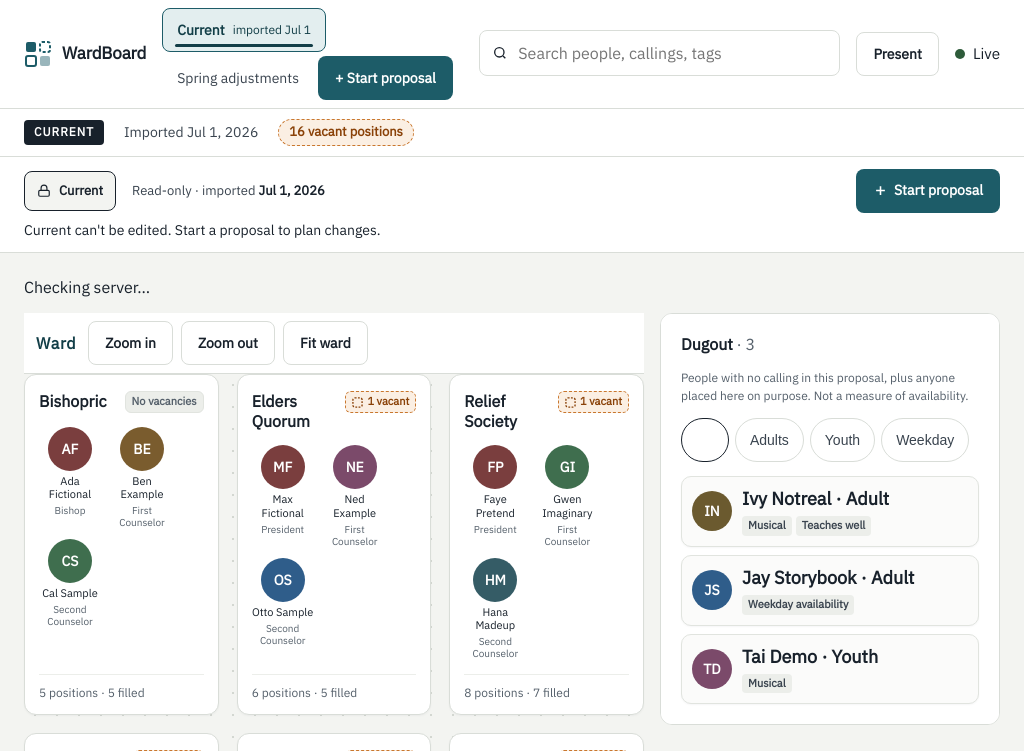
Scenario: T-090 accepted view in app › draft with a removed member placed: Accepted option disabled with the reason
The width and height of the screenshot is (1024, 751).
Click the tab "Spring adjustments". click: [238, 78]
box: [162, 56, 314, 100]
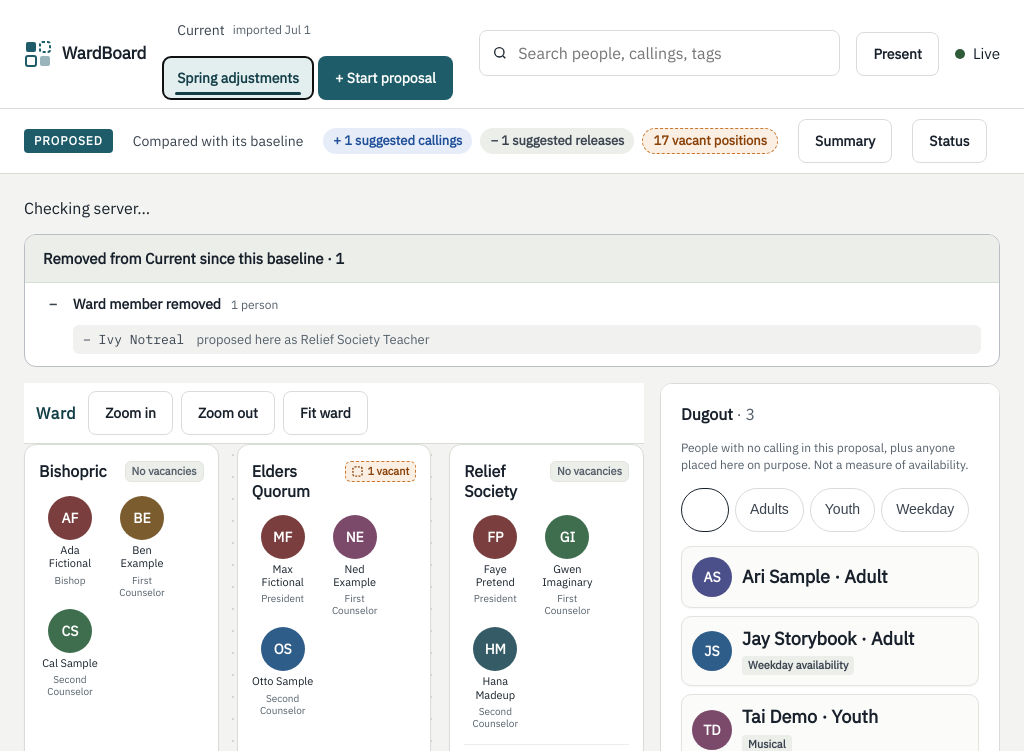
Click the button "Status". click: [949, 141]
box: [912, 119, 986, 163]
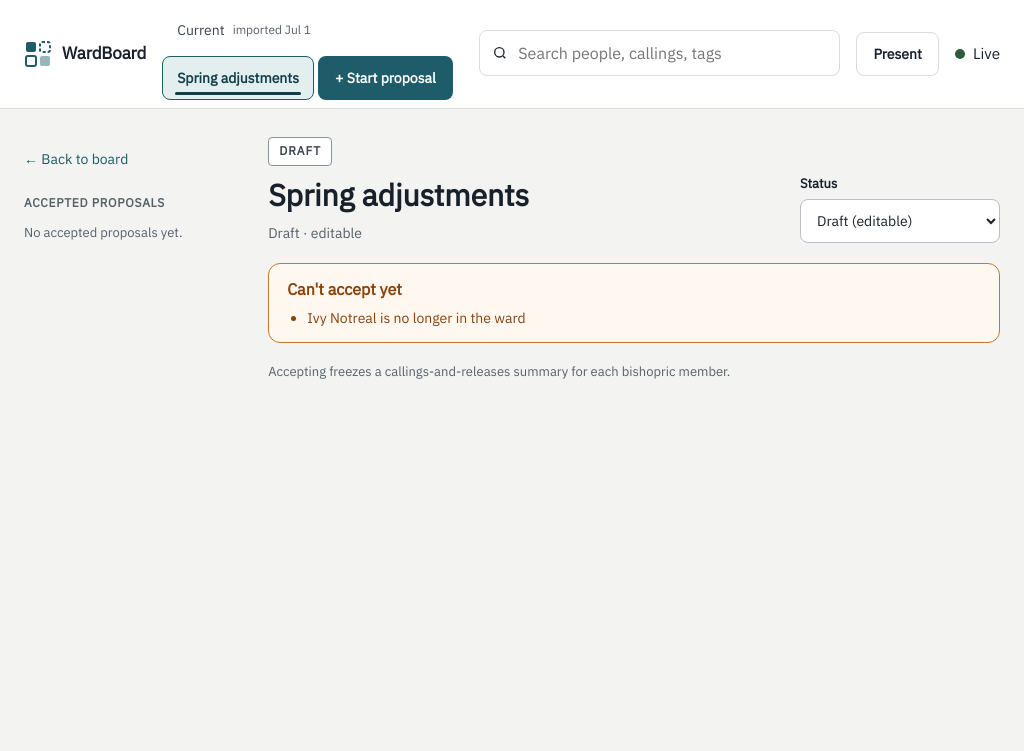
Now the list item "Ivy Notreal is no longer in the ward" is shown, box [307, 309, 526, 327]
